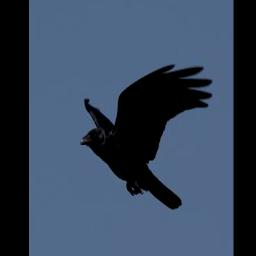Crow: (78, 61, 214, 210)
